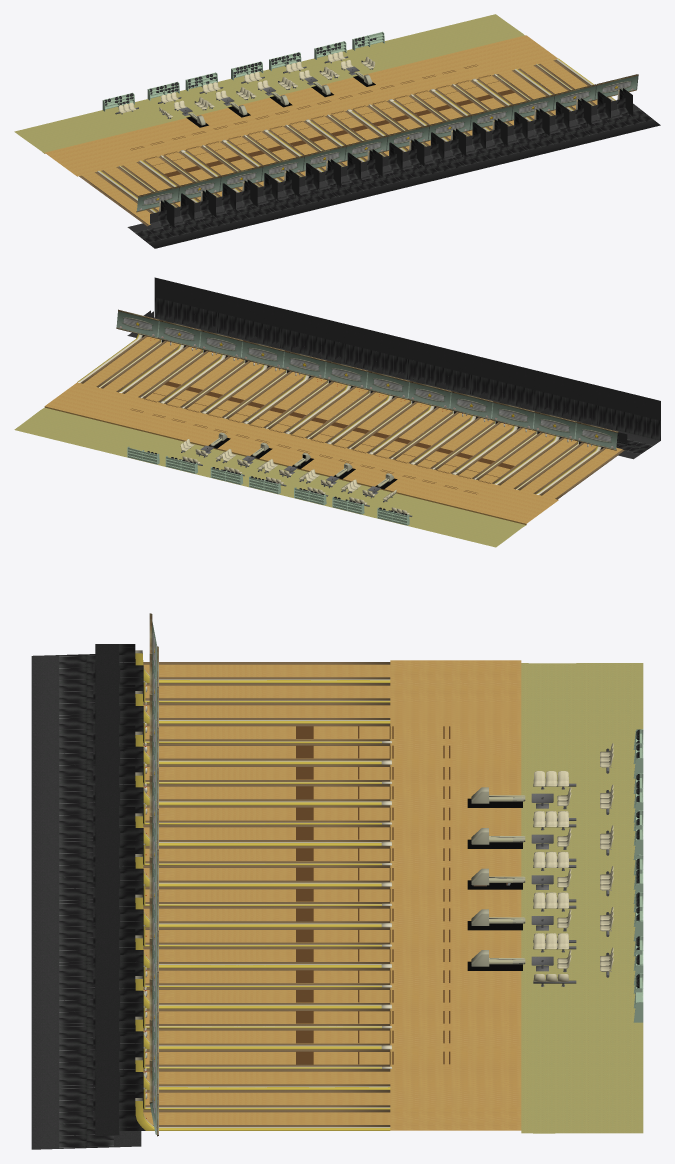
The model's file is bowling-alley.glb.
3 renders of one model, top to bottom at view 1: azimuth 30°, elevation 25°; view 2: azimuth 150°, elevation 25°; view 3: azimuth 270°, elevation 25°, orthographic. The views are drawn at different scales.
Parts seen in each view (by area): view 1: polygon139, polygon0, polygon477, polygon1, polygon16, polygon113, polygon119, polygon31, polygon252, polygon309, polygon376, polygon310 (+2 smaller); view 2: polygon139, polygon1, polygon0, polygon477, polygon16, polygon113, polygon119, polygon252, polygon31, polygon309, polygon310, polygon8 (+1 smaller); view 3: polygon1, polygon0, polygon139, polygon477, polygon113, polygon119, polygon31, polygon309, polygon16, polygon252, polygon8, polygon310 (+1 smaller).
Boxes of the visible parts, bbox=[...] form: polygon139: bbox=[127, 88, 660, 248]; polygon0: bbox=[45, 35, 557, 176]; polygon477: bbox=[14, 14, 524, 153]; polygon1: bbox=[44, 60, 597, 224]; polygon16: bbox=[136, 74, 638, 212]; polygon113: bbox=[79, 60, 611, 226]; polygon119: bbox=[97, 58, 619, 212]; polygon31: bbox=[130, 64, 514, 177]; polygon252: bbox=[102, 31, 384, 111]; polygon309: bbox=[118, 51, 375, 117]; polygon376: bbox=[104, 36, 376, 105]; polygon310: bbox=[115, 56, 372, 118]; polygon139: bbox=[127, 277, 660, 459]; polygon1: bbox=[44, 336, 622, 524]; polygon0: bbox=[45, 382, 558, 523]; polygon477: bbox=[14, 407, 525, 547]; polygon16: bbox=[116, 309, 618, 450]; polygon113: bbox=[81, 336, 624, 499]; polygon119: bbox=[77, 334, 601, 494]; polygon252: bbox=[127, 446, 409, 525]; polygon31: bbox=[130, 381, 514, 494]; polygon309: bbox=[180, 439, 409, 514]; polygon310: bbox=[179, 445, 412, 516]; polygon8: bbox=[210, 432, 393, 487]; polygon1: bbox=[143, 664, 390, 1124]; polygon0: bbox=[390, 660, 521, 1130]; polygon139: bbox=[31, 644, 145, 1149]; polygon477: bbox=[521, 663, 643, 1133]; polygon113: bbox=[143, 662, 390, 1126]; polygon119: bbox=[135, 650, 391, 1130]; polygon31: bbox=[296, 726, 450, 1064]; polygon309: bbox=[533, 743, 613, 981]; polygon16: bbox=[149, 613, 158, 1136]; polygon252: bbox=[633, 729, 643, 1022]; polygon8: bbox=[471, 787, 525, 966]; polygon310: bbox=[531, 748, 609, 986].
Bounding box in the file's own units: 4.14 × 0.3071 × 2.14.
Materials: 21 (21 with a texture image).
